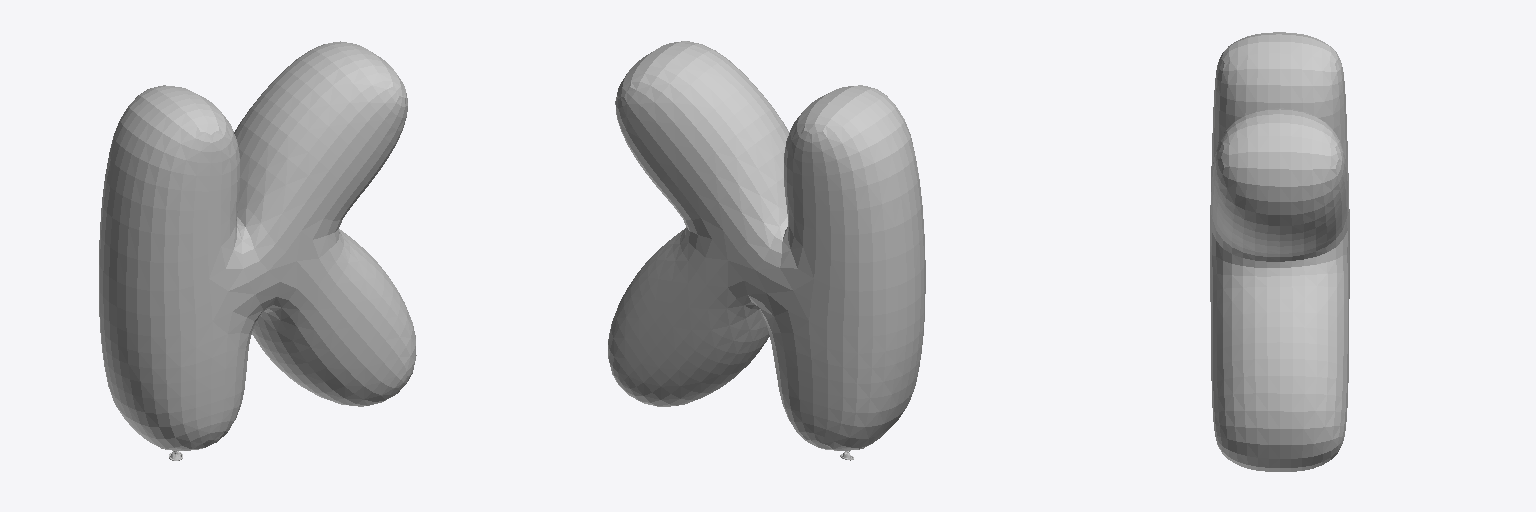
Rendered from balloonk.obj.
The picture shows the model from 3 angles: view 1: azimuth 30°, elevation 25°; view 2: azimuth 150°, elevation 25°; view 3: azimuth 270°, elevation 25°; orthographic projection.
Visible parts, largest first — view 1: Balloon_Alphabet_Subdivision_K_Alphabet_K; view 2: Balloon_Alphabet_Subdivision_K_Alphabet_K; view 3: Balloon_Alphabet_Subdivision_K_Alphabet_K.
Part boxes in pixels (left/top/right/bottom): Balloon_Alphabet_Subdivision_K_Alphabet_K: left=99, top=41, right=416, bottom=460; Balloon_Alphabet_Subdivision_K_Alphabet_K: left=608, top=41, right=925, bottom=460; Balloon_Alphabet_Subdivision_K_Alphabet_K: left=1210, top=32, right=1349, bottom=471.
Bounding box in the file's own units: 42.94 × 51.26 × 17.82.